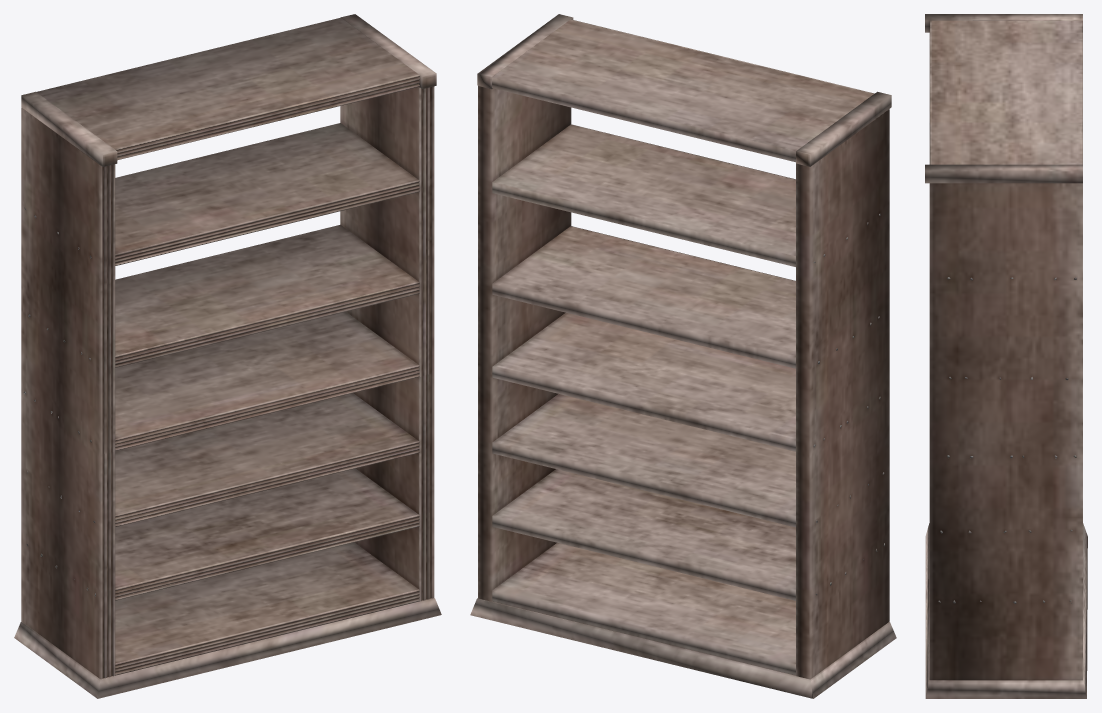
File: wooden_bookshelf_worn.glb
3 views of the same model, side by side, from view 1: azimuth 30°, elevation 25°; view 2: azimuth 150°, elevation 25°; view 3: azimuth 270°, elevation 25° (orthographic). The views are drawn at different scales.
Visible parts, largest first — view 1: wooden_bookshelf_worn; view 2: wooden_bookshelf_worn; view 3: wooden_bookshelf_worn.
Part boxes in pixels (x1,y1,x2,y2): wooden_bookshelf_worn: (14,14,441,698); wooden_bookshelf_worn: (470,14,896,698); wooden_bookshelf_worn: (925,14,1087,698).
Bounding box in the file's own units: 1.37 × 2.06 × 0.5797.
Materials: 1 (1 with a texture image).
